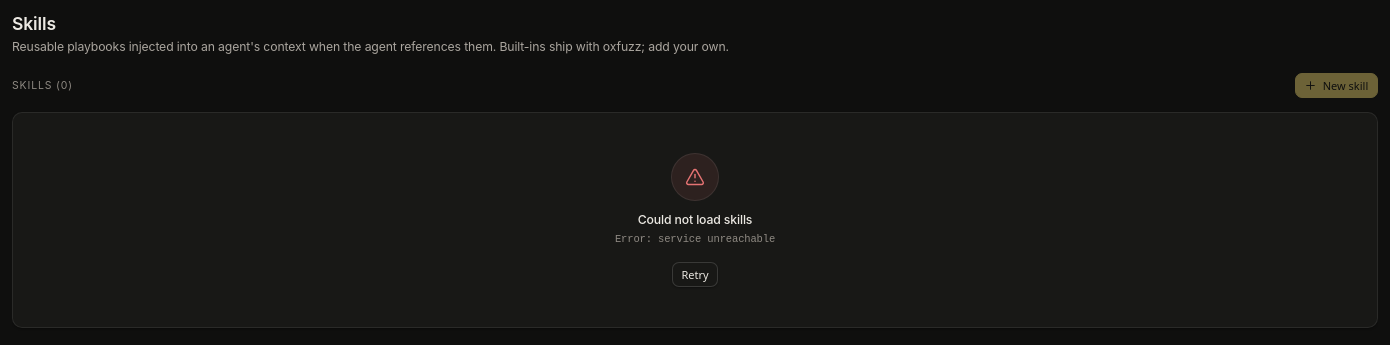
Test: shows a skills load failure with Retry instead of an empty list
Click the button "Retry" at (695, 274), box [672,262,718,286]
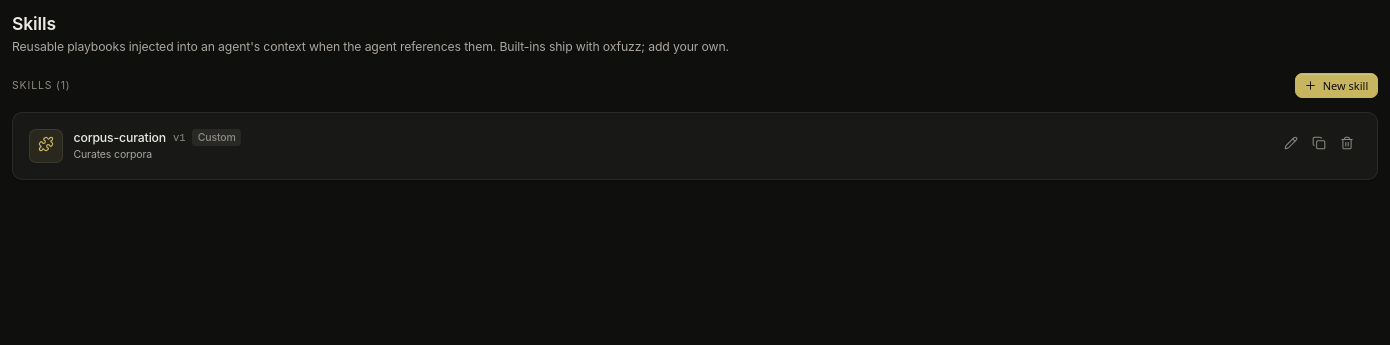
Expected: the text "corpus-curation" is shown, [74,130,166,145]
Expected: the text "Could not load skills" is gone
